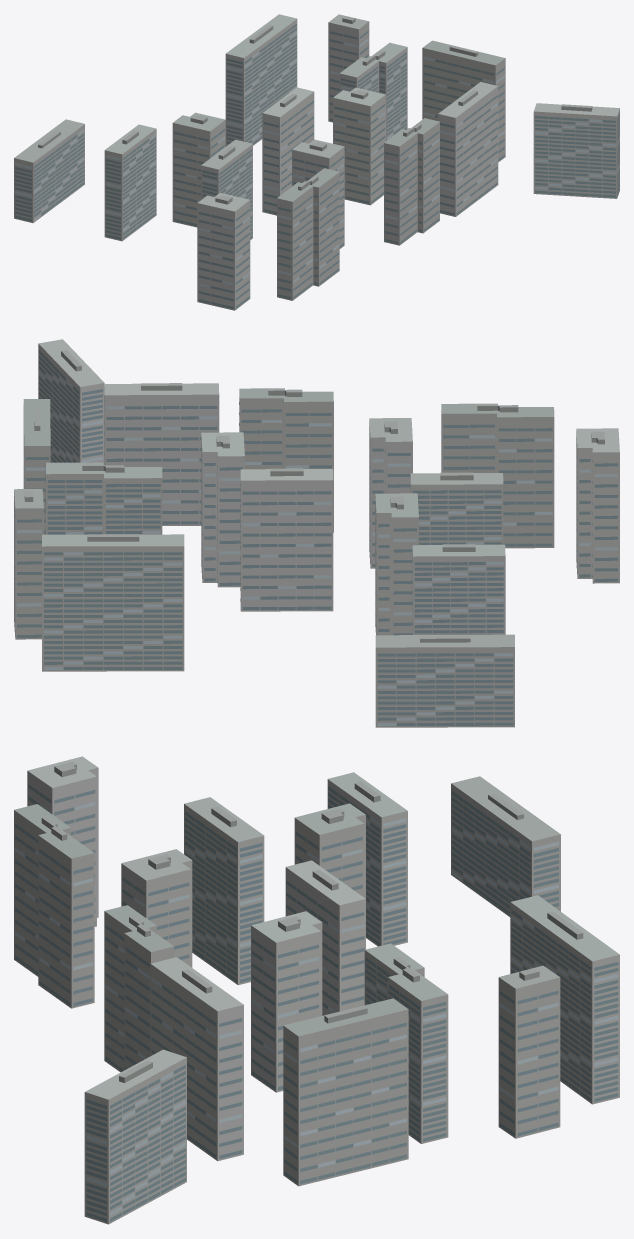
Rendered from apt-a13377703.glb.
The picture shows the model from 3 angles, top to bottom: view 1: azimuth 30°, elevation 25°; view 2: azimuth 150°, elevation 25°; view 3: azimuth 270°, elevation 25°; orthographic projection. The views are drawn at different scales.
Visible parts, largest first — view 1: apt-a13377703; view 2: apt-a13377703; view 3: apt-a13377703.
Part boxes in pixels (bbox=[...]): apt-a13377703: bbox=[14, 14, 619, 310]; apt-a13377703: bbox=[14, 339, 619, 727]; apt-a13377703: bbox=[14, 756, 619, 1224].
Bounding box in the file's own units: 335 × 68 × 240.
